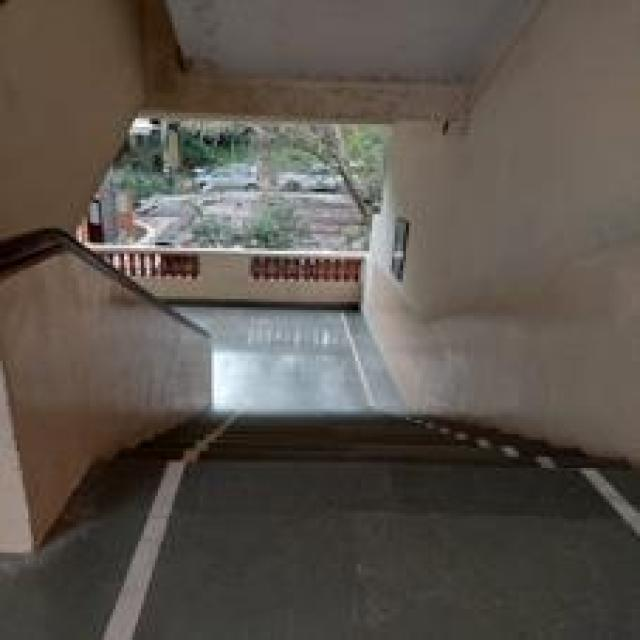downstair: (181, 382, 562, 528)
